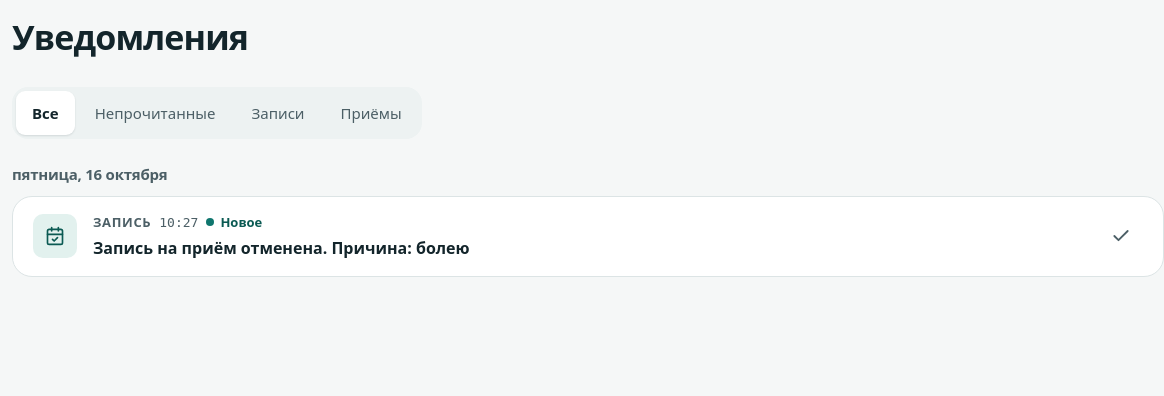
Test case: NotificationCenter › should drop the banner of a failed mark-as-read when another tab is chosen
Click the button named "Отметить прочитанным": (1121, 236) x1=1099 y1=214 x2=1143 y2=258
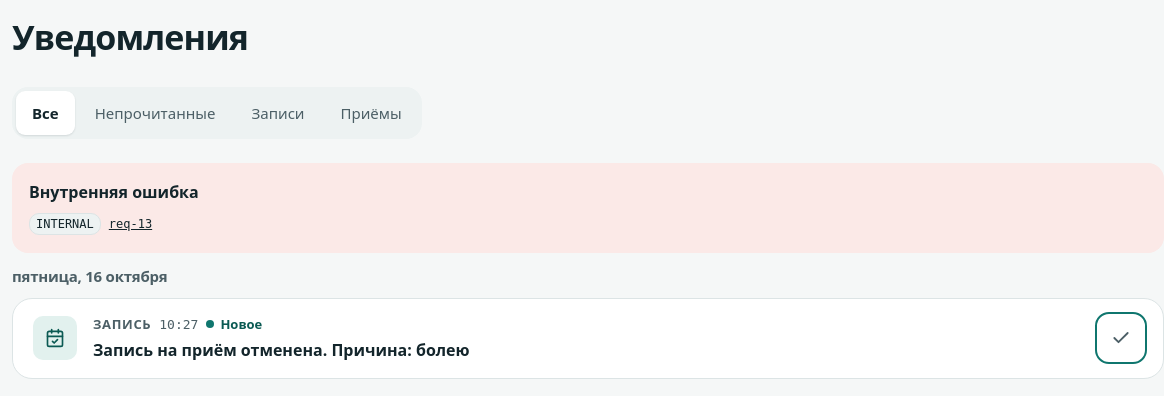
Check: the message with test id "problem-banner" shows "req-13", box x1=109 y1=212 x2=152 y2=236
Click the tab "Непрочитанные": (155, 113) x1=79 y1=91 x2=231 y2=135
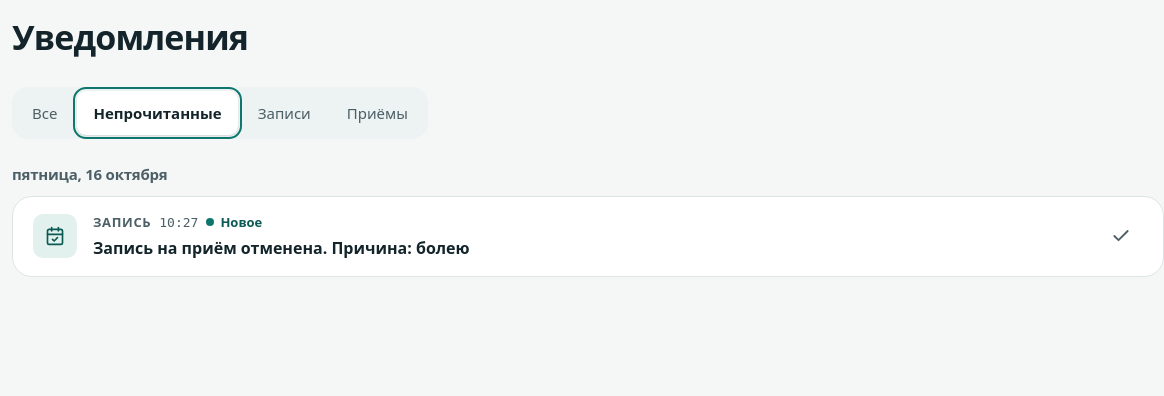
Check: the message with test id "problem-banner" is gone
